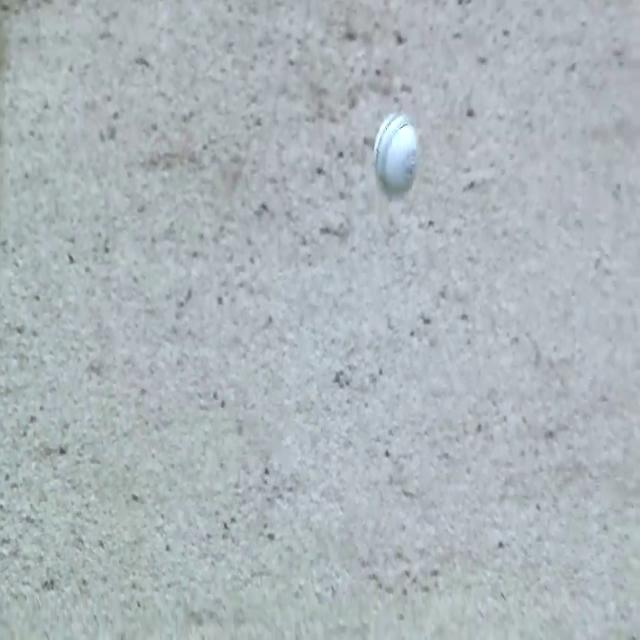ball: (367, 103, 423, 200)
